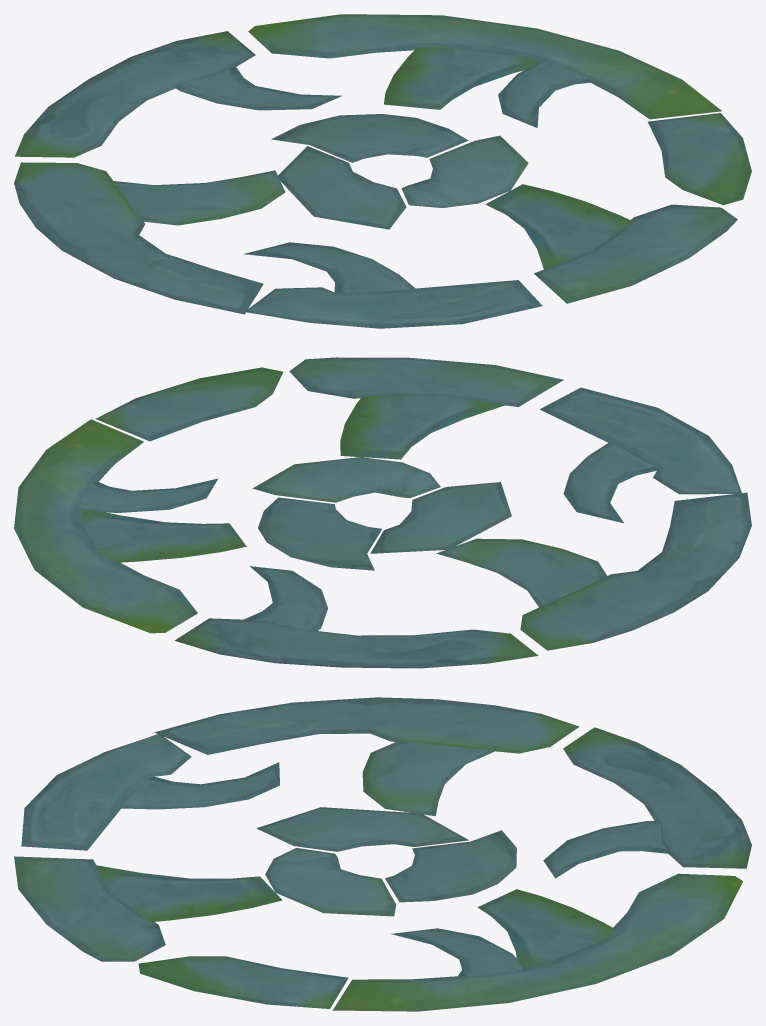
File: mld_platform_02.FBX
3 renders of one model, top to bottom at view 1: azimuth 30°, elevation 25°; view 2: azimuth 150°, elevation 25°; view 3: azimuth 270°, elevation 25°, orthographic.
Visible parts, largest first — view 1: Mld_platform_02; view 2: Mld_platform_02; view 3: Mld_platform_02.
Part boxes in pixels (x1,y1,x2,y2): Mld_platform_02: (14,14,751,328); Mld_platform_02: (14,357,751,668); Mld_platform_02: (14,697,751,1011).
Bounding box in the file's own units: 517 × 0.721 × 513.
